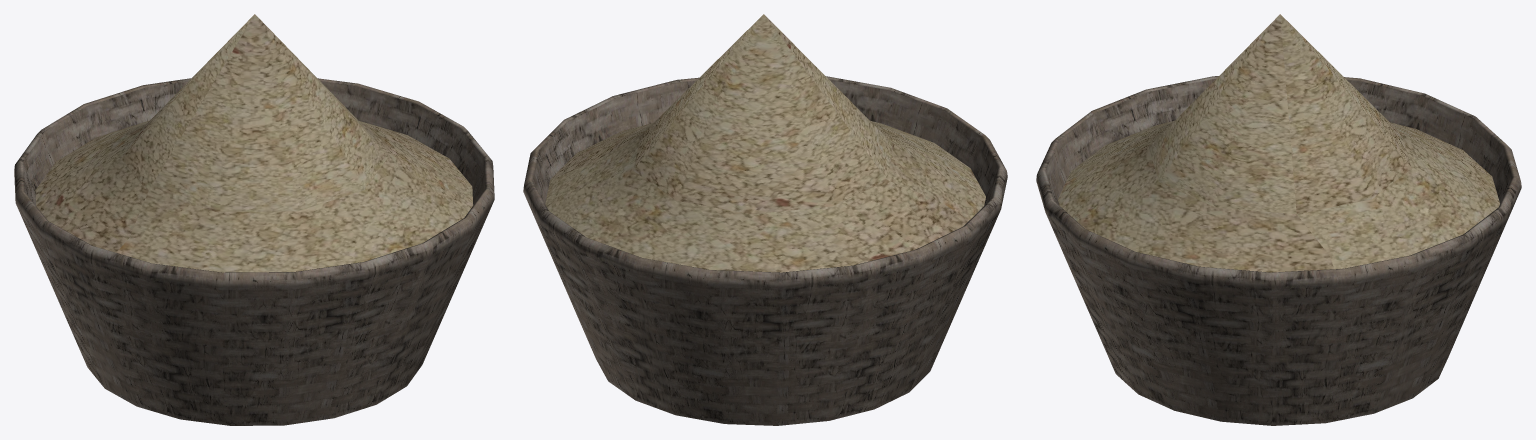
File: Wicker_Basket_01_6.glb
The picture shows the model from 3 angles, left to right: view 1: azimuth 30°, elevation 25°; view 2: azimuth 150°, elevation 25°; view 3: azimuth 270°, elevation 25°; orthographic projection.
Parts seen in each view (by area): view 1: Wicker_Basket_01.036; view 2: Wicker_Basket_01.036; view 3: Wicker_Basket_01.036.
Boxes of the visible parts, x1,y1,x2,y2 form: Wicker_Basket_01.036: [14, 14, 494, 425]; Wicker_Basket_01.036: [523, 14, 1007, 425]; Wicker_Basket_01.036: [1036, 14, 1521, 425].
Size of the model in its own units: 0.2901 by 0.2247 by 0.2901.
2 materials, 2 textured.
